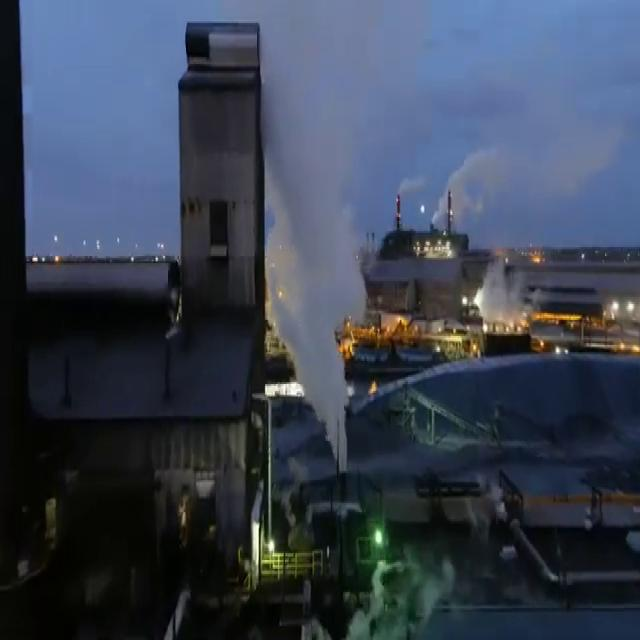smoke: (259, 9, 366, 473), (396, 149, 506, 249), (480, 252, 598, 340)
